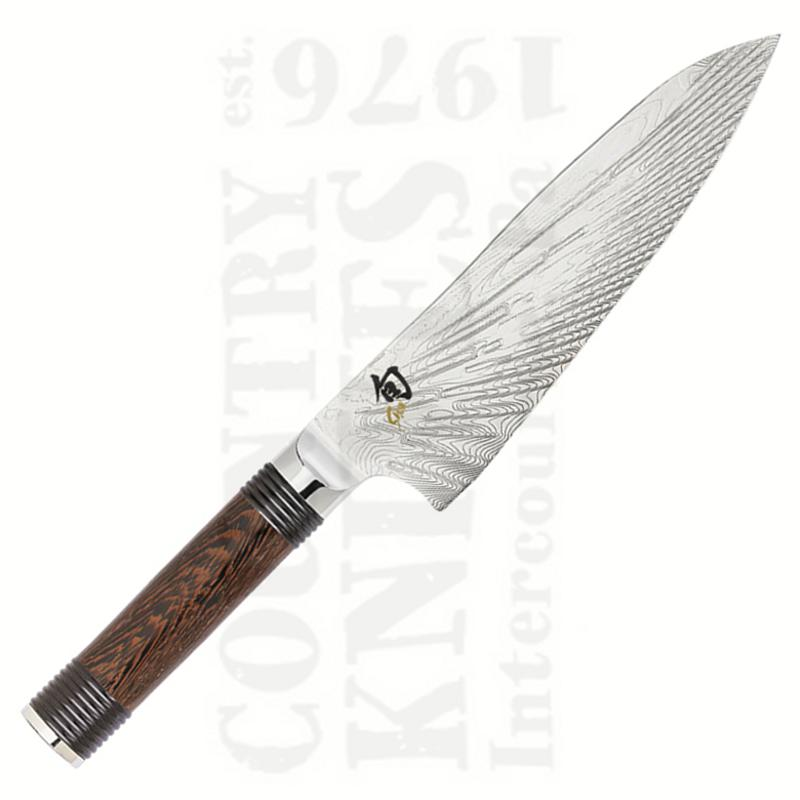knife: (21, 35, 782, 756)
